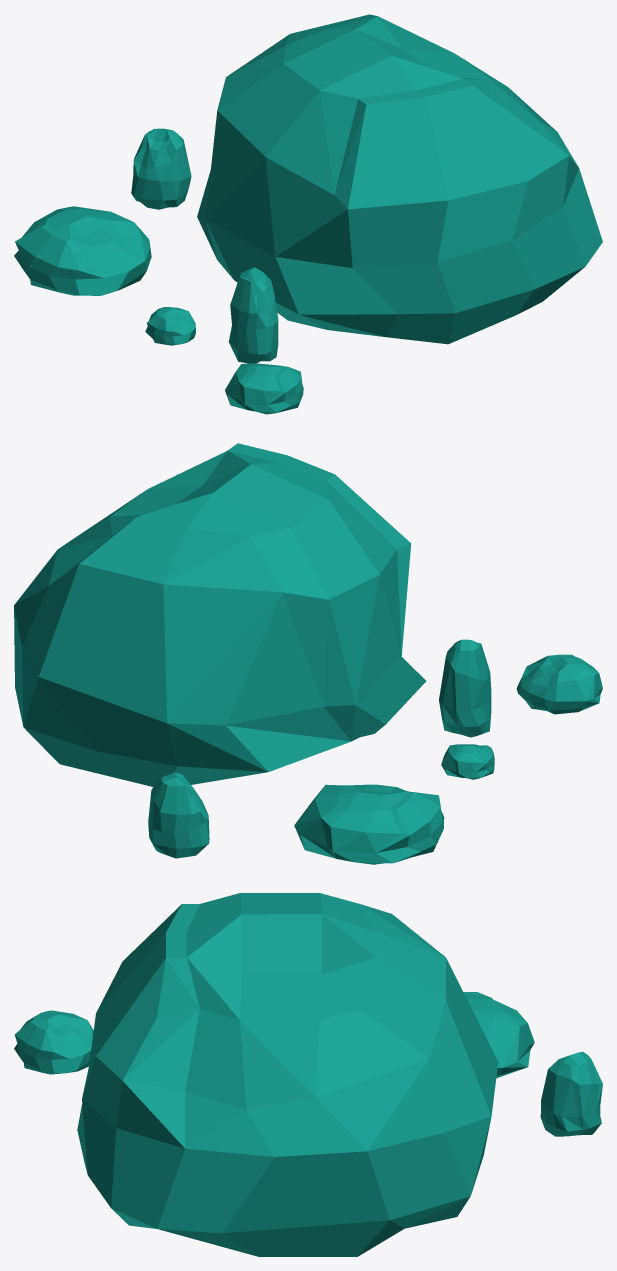
File: s_rockPile.fbx
3 renders of one model, top to bottom at view 1: azimuth 30°, elevation 25°; view 2: azimuth 150°, elevation 25°; view 3: azimuth 270°, elevation 25°, orthographic. The views are drawn at different scales.
Parts seen in each view (by area): view 1: rockPile; view 2: rockPile; view 3: rockPile.
Part boxes in pixels (x1,y1,x2,y2): rockPile: [14, 14, 602, 414]; rockPile: [14, 443, 602, 864]; rockPile: [14, 893, 602, 1256].
Bounding box in the file's own units: 0.3641 × 0.1805 × 0.3742.
